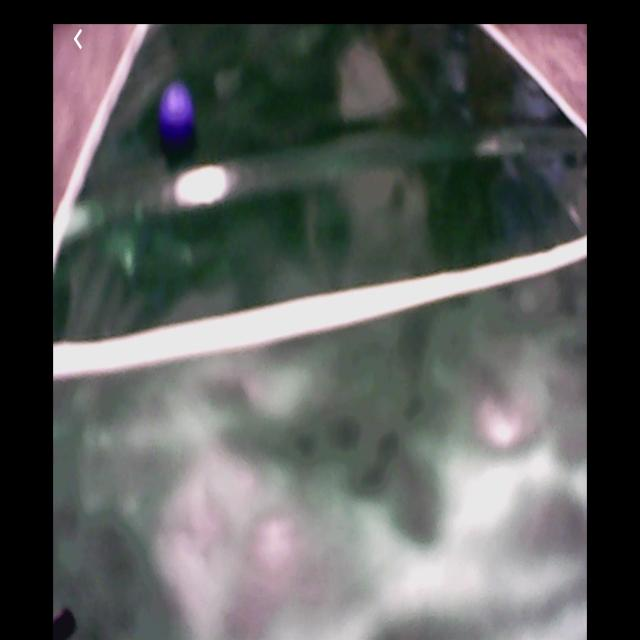ball: (160, 83, 196, 146)
